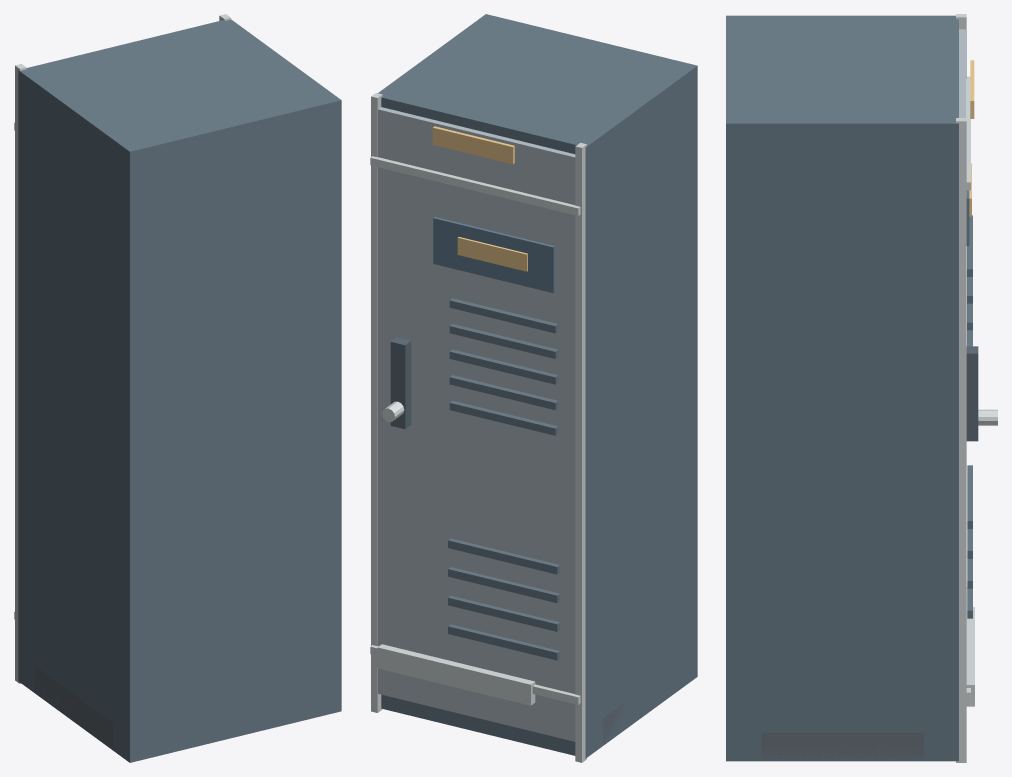
Rendered from single_prison_locker.glb.
The picture shows the model from 3 angles, left to right: view 1: azimuth 30°, elevation 25°; view 2: azimuth 150°, elevation 25°; view 3: azimuth 270°, elevation 25°; orthographic projection. The views are drawn at different scales.
Visible parts, largest first — view 1: single_prison_locker:steel_dark, single_prison_locker:steel_light, single_prison_locker:rubber; view 2: single_prison_locker:steel_dark, single_prison_locker:steel, single_prison_locker:steel_light, single_prison_locker:navy, single_prison_locker:warning, single_prison_locker:matte_black; view 3: single_prison_locker:steel_dark, single_prison_locker:steel_light, single_prison_locker:rubber, single_prison_locker:matte_black, single_prison_locker:steel.
Part boxes in pixels (box(x1,y1,x2,y2)): single_prison_locker:steel_dark: box(18, 19, 341, 762); single_prison_locker:steel_light: box(14, 14, 230, 683); single_prison_locker:rubber: box(35, 666, 112, 750); single_prison_locker:steel_dark: box(378, 14, 697, 758); single_prison_locker:steel: box(378, 107, 575, 741); single_prison_locker:steel_light: box(370, 93, 586, 762); single_prison_locker:navy: box(433, 217, 555, 293); single_prison_locker:warning: box(432, 126, 527, 271); single_prison_locker:matte_black: box(390, 337, 411, 429); single_prison_locker:steel_dark: box(726, 15, 972, 761); single_prison_locker:steel_light: box(956, 14, 997, 762); single_prison_locker:rubber: box(761, 732, 923, 761); single_prison_locker:matte_black: box(966, 346, 978, 441); single_prison_locker:steel: box(959, 29, 965, 117).
Bounding box in the file's own units: 0.58 × 1.61 × 0.6185.
